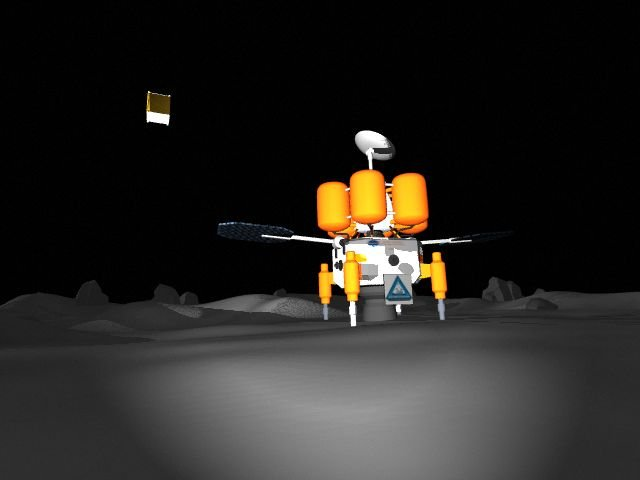homebase: (214, 129, 504, 331)
